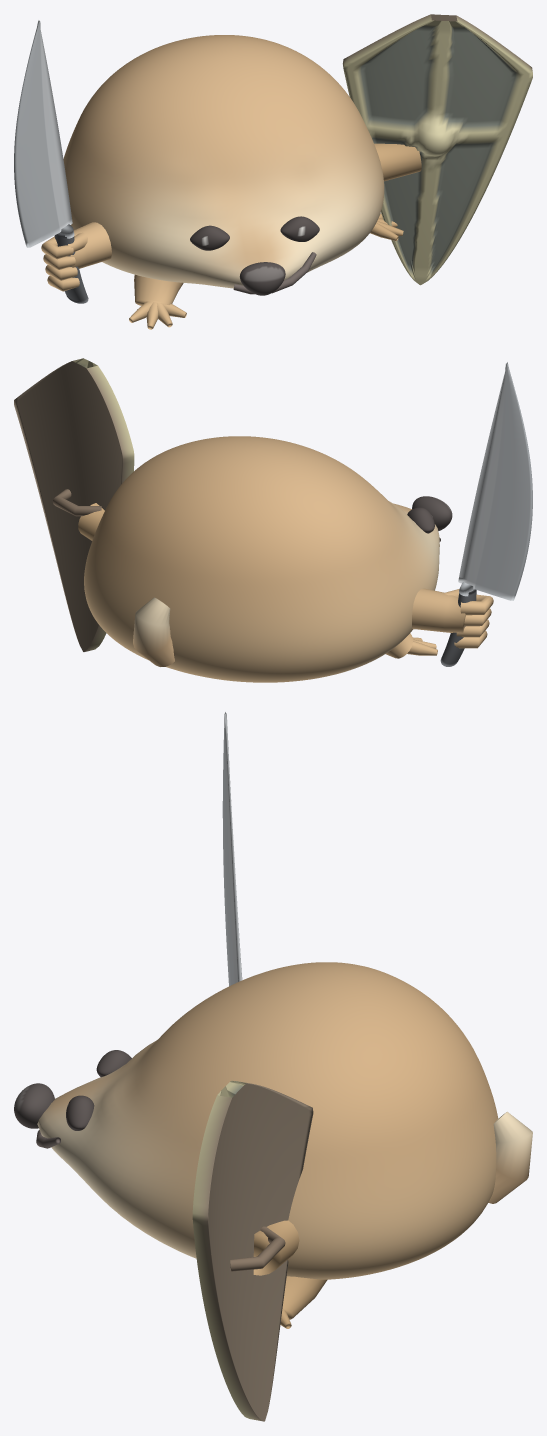
Rendered from cheems_frog_warrior.glb.
The picture shows the model from 3 angles, top to bottom: view 1: azimuth 30°, elevation 25°; view 2: azimuth 150°, elevation 25°; view 3: azimuth 270°, elevation 25°; orthographic projection. The views are drawn at different scales.
Visible parts, largest first — view 1: Body, Medieval_Shield, Knife_Blade, Arm_Shield, Arm_Knife, Nose, FrogLeg_Left, Eye_ViewerRight, Eye_ViewerLeft, Knife_Handle, Smirk, Finger_Knife_0; view 2: Body, Medieval_Shield, Knife_Blade, Tail, Arm_Knife, Nose, Knife_Handle, Shield_Grip, Arm_Shield, Finger_Knife_0, Eye_ViewerLeft; view 3: Body, Medieval_Shield, Knife_Blade, Tail, Arm_Shield, Nose, FrogLeg_Right, Shield_Grip.
Boxes of the visible parts, box(x1,y1,x2,y2) form: Body: box(63, 35, 384, 288); Medieval_Shield: box(342, 14, 532, 285); Knife_Blade: box(14, 20, 72, 247); Arm_Shield: box(374, 143, 421, 181); Arm_Knife: box(70, 222, 111, 268); Nose: box(239, 262, 285, 295); FrogLeg_Left: box(134, 274, 183, 305); Eye_ViewerRight: box(280, 216, 319, 241); Eye_ViewerLeft: box(190, 225, 229, 250); Knife_Handle: box(54, 233, 88, 303); Smirk: box(233, 252, 316, 294); Finger_Knife_0: box(41, 236, 73, 259); Body: box(84, 436, 439, 682); Medieval_Shield: box(14, 358, 134, 651); Knife_Blade: box(458, 362, 532, 600); Tail: box(133, 597, 174, 666); Arm_Knife: box(412, 588, 465, 632); Nose: box(412, 496, 452, 530); Knife_Handle: box(440, 588, 476, 666); Shield_Grip: box(52, 489, 101, 516); Arm_Shield: box(78, 503, 104, 540); Finger_Knife_0: box(460, 594, 493, 615); Eye_ViewerLeft: box(407, 507, 434, 533); Body: box(37, 962, 498, 1279); Medieval_Shield: box(192, 1080, 313, 1421); Knife_Blade: box(222, 712, 242, 986); Tail: box(488, 1111, 532, 1203); Arm_Shield: box(253, 1220, 299, 1275); Nose: box(14, 1083, 54, 1128); FrogLeg_Right: box(282, 1276, 327, 1319); Shield_Grip: box(230, 1226, 285, 1271).
Size of the model in its own units: 4.78 by 3.29 by 3.33.
